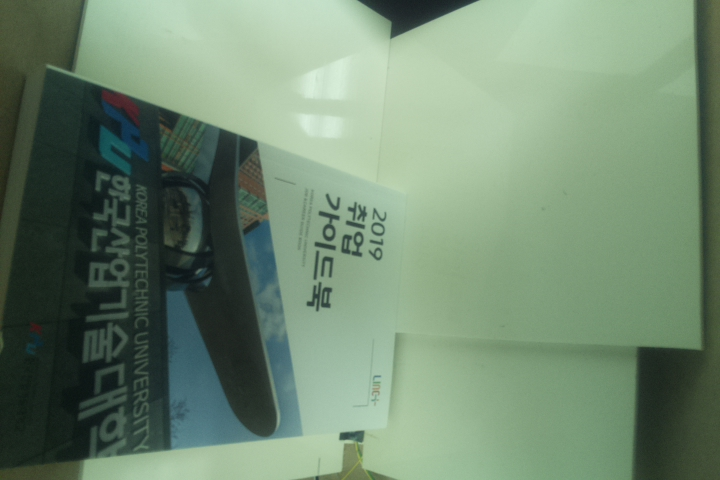book: (1, 62, 410, 475)
